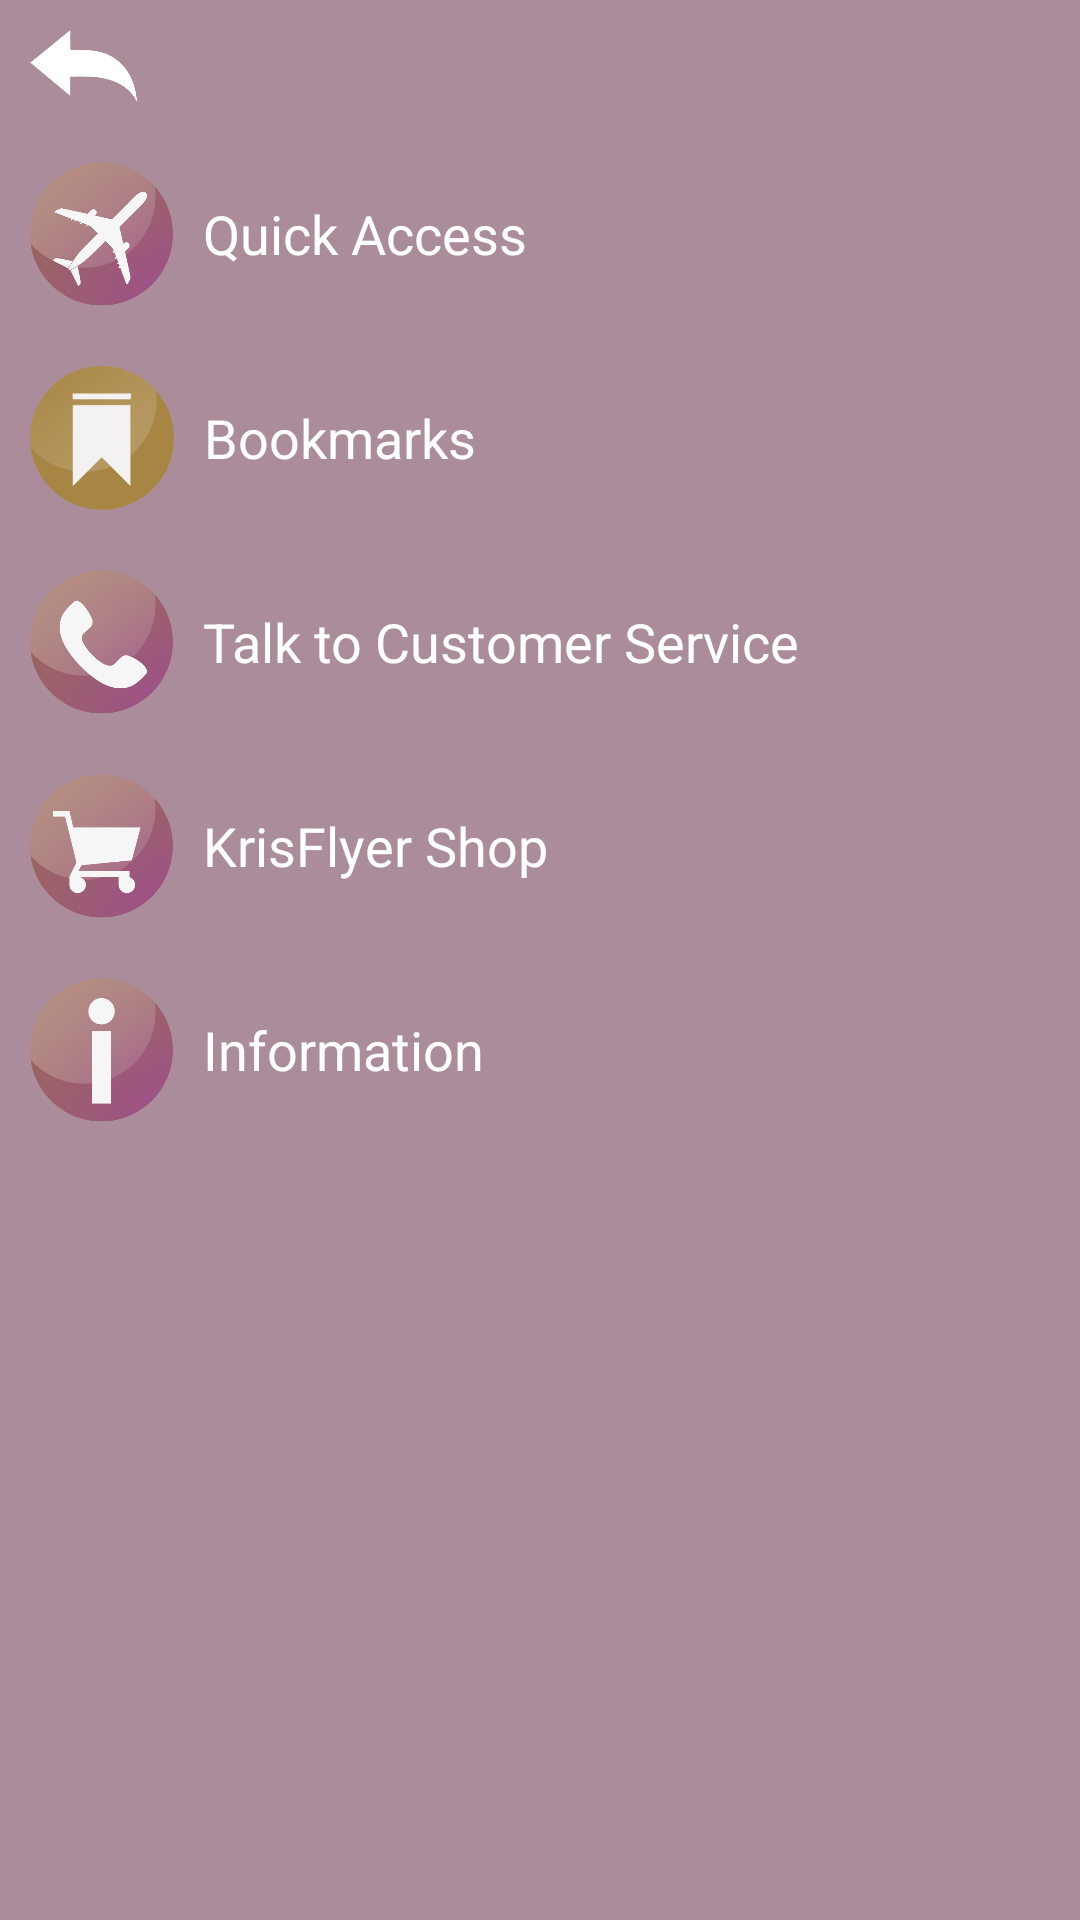

Where to tap for icons on this 1080px×1920px app screen, as (x,y):
backwhite: (84,66)
phone: (101,642)
